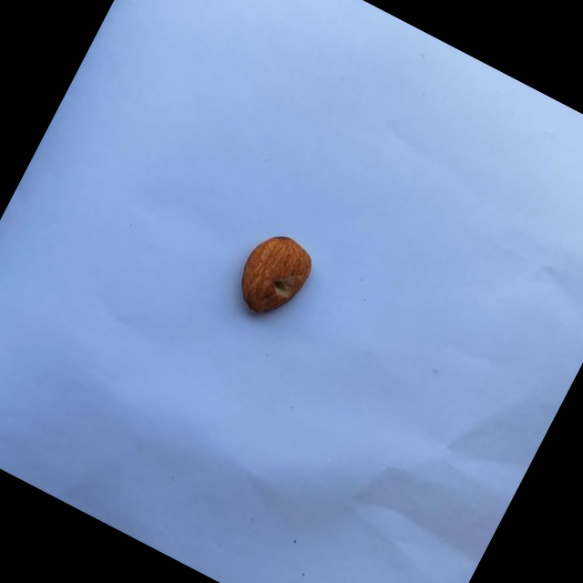grade3: (224, 221, 326, 332)
